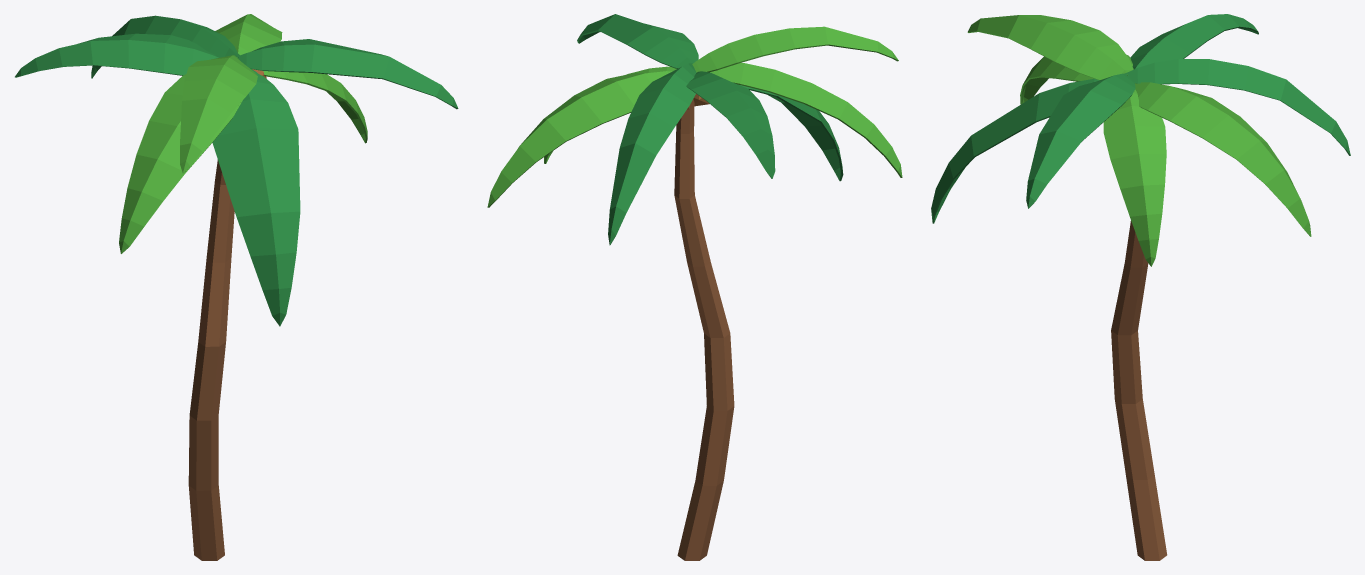
The model's file is palm-leaning.glb.
3 views of the same model, side by side, from view 1: azimuth 30°, elevation 25°; view 2: azimuth 150°, elevation 25°; view 3: azimuth 270°, elevation 25° (orthographic). The views are drawn at different scales.
Parts seen in each view (by area): view 1: PalmTree_4; view 2: PalmTree_4; view 3: PalmTree_4.
Part boxes in pixels (x1,y1,x2,y2): PalmTree_4: (15, 14, 458, 560); PalmTree_4: (487, 14, 902, 560); PalmTree_4: (931, 14, 1350, 560).
Size of the model in its own units: 4.68 by 6.94 by 5.18.
